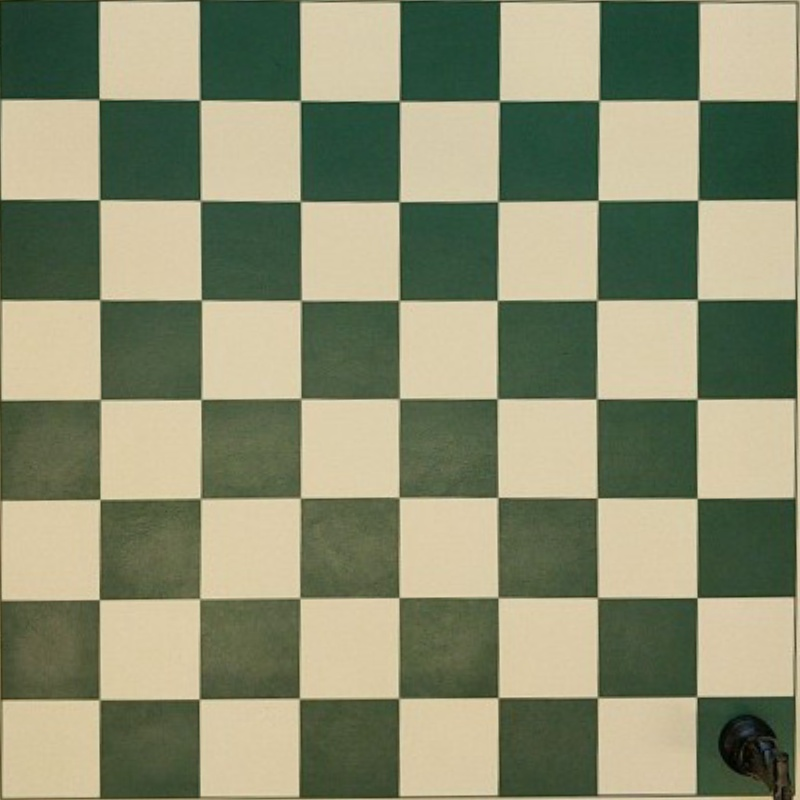black-knight: (718, 713, 789, 795)
